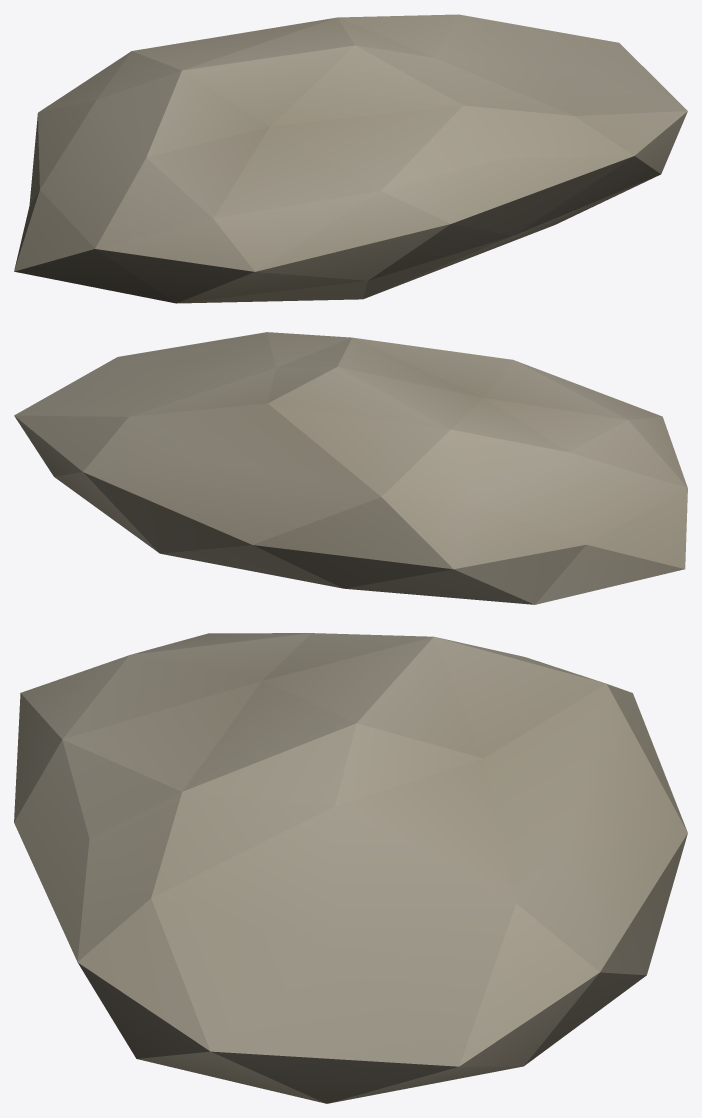
File: world_slab_a.fbx
3 renders of one model, top to bottom at view 1: azimuth 30°, elevation 25°; view 2: azimuth 150°, elevation 25°; view 3: azimuth 270°, elevation 25°, orthographic. The views are drawn at different scales.
Visible parts, largest first — view 1: world_slab_a; view 2: world_slab_a; view 3: world_slab_a.
Part boxes in pixels (x1=…): world_slab_a: x1=14, y1=14, x2=687, y2=303; world_slab_a: x1=14, y1=332, x2=687, y2=604; world_slab_a: x1=14, y1=633, x2=687, y2=1103.
Size of the model in its own units: 529 by 148 by 336.
